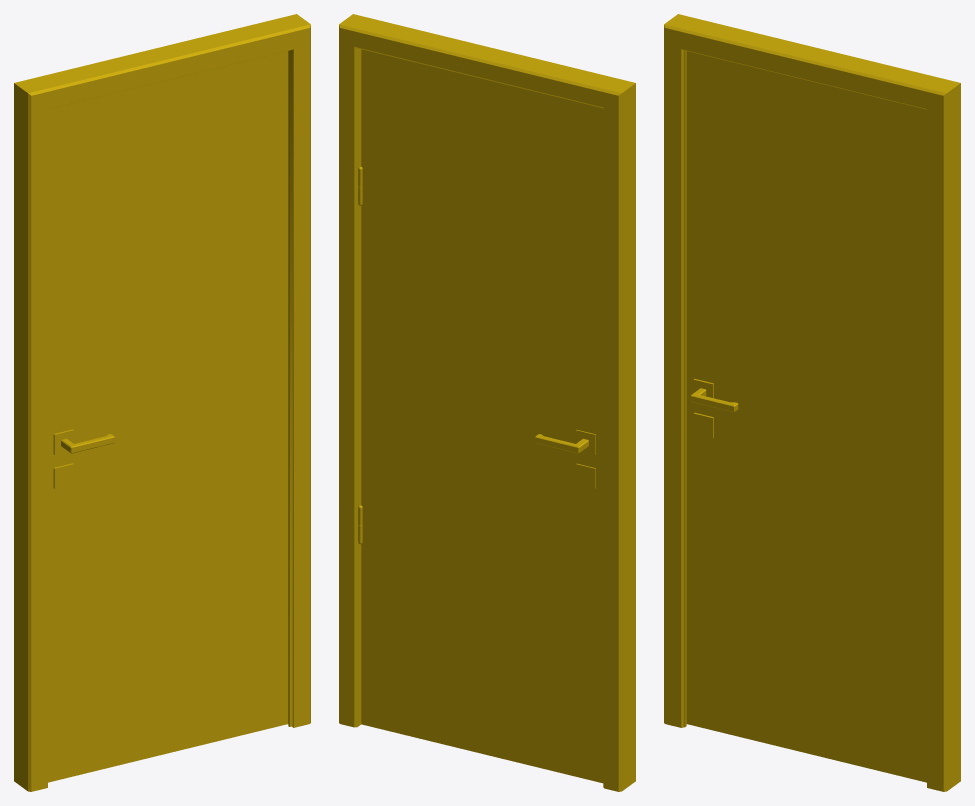
The model's file is Door_1.fbx.
3 renders of one model, left to right at view 1: azimuth 30°, elevation 25°; view 2: azimuth 150°, elevation 25°; view 3: azimuth 330°, elevation 25°, orthographic.
Visible parts, largest first — view 1: Door_1, Door_1_1; view 2: Door_1, Door_1_1; view 3: Door_1, Door_1_1.
Part boxes in pixels (x1,y1,x2,y2): Door_1: [14, 14, 310, 791]; Door_1_1: [61, 434, 114, 453]; Door_1: [339, 14, 635, 791]; Door_1_1: [535, 434, 588, 453]; Door_1: [664, 14, 960, 791]; Door_1_1: [690, 388, 738, 411].
Size of the model in its own units: 87.4 by 206 by 16.57.
